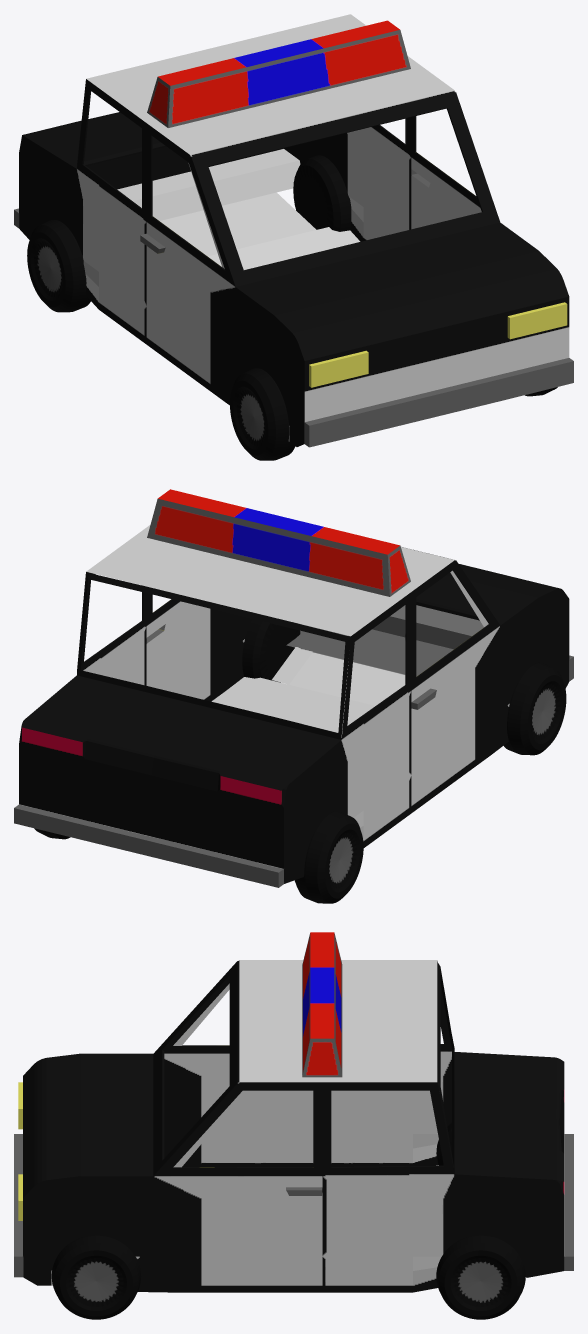
File: cop_car.glb
3 renders of one model, top to bottom at view 1: azimuth 30°, elevation 25°; view 2: azimuth 150°, elevation 25°; view 3: azimuth 270°, elevation 25°, orthographic. The views are drawn at different scales.
Visible parts, largest first — view 1: cop_car; view 2: cop_car; view 3: cop_car.
Part boxes in pixels (x1=…): cop_car: x1=14, y1=14, x2=573, y2=460; cop_car: x1=14, y1=489, x2=573, y2=903; cop_car: x1=14, y1=932, x2=573, y2=1319.
Size of the model in its own units: 2.07 by 1.89 by 3.55.
1 material, 1 textured.
